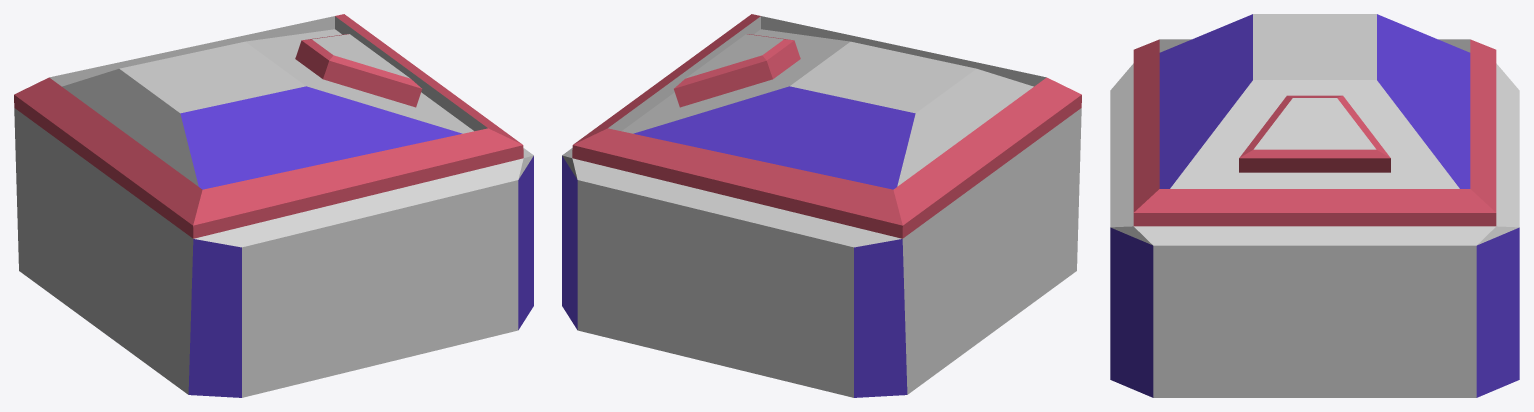
The model's file is SmoothMetalBox.fbx.
The picture shows the model from 3 angles, left to right: view 1: azimuth 30°, elevation 25°; view 2: azimuth 150°, elevation 25°; view 3: azimuth 270°, elevation 25°; orthographic projection.
Visible parts, largest first — view 1: Cube; view 2: Cube; view 3: Cube.
Boxes of the visible parts, x1,y1,x2,y2 form: Cube: [14, 14, 533, 397]; Cube: [562, 14, 1081, 397]; Cube: [1110, 14, 1519, 397].
Bounding box in the file's own units: 284 × 180 × 284.
